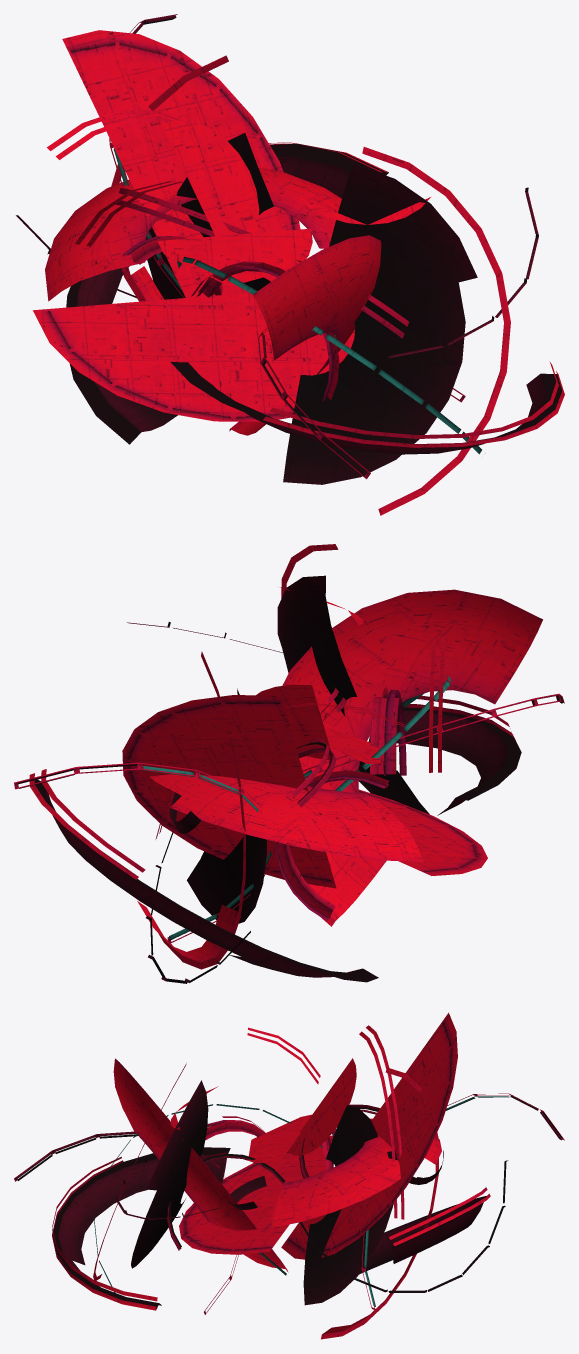
Rendered from MonsterB_Die13.obj.
3 views of the same model, one above another, from view 1: azimuth 30°, elevation 25°; view 2: azimuth 150°, elevation 25°; view 3: azimuth 270°, elevation 25° (orthographic). The views are drawn at different scales.
Parts seen in each view (by area): view 1: Sphere001; view 2: Sphere001; view 3: Sphere001.
Part boxes in pixels (bbox=[...]): Sphere001: bbox=[16, 14, 564, 515]; Sphere001: bbox=[14, 544, 564, 983]; Sphere001: bbox=[14, 1012, 564, 1339].
Bounding box in the file's own units: 236 × 193 × 376.
1 material, 1 textured.
